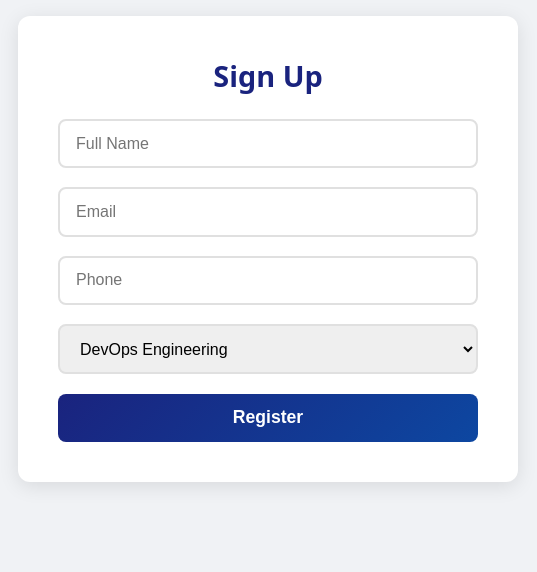
it: Signup Page › shows error message on failed registration
This screenshot has width=537, height=572.
Type "John Doe" into the field with placeholder "Full Name".
click(268, 144); type("John Doe")  # box [58, 119, 478, 168]
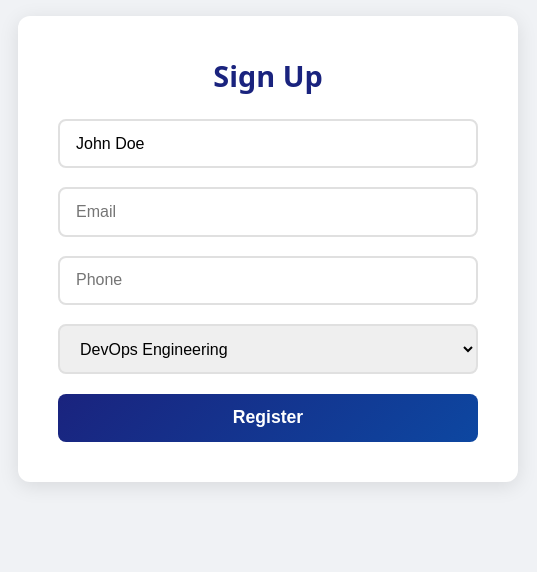
Type "john@example.com" into the field with placeholder "Email".
click(268, 212); type("john@example.com")  # box [58, 187, 478, 237]
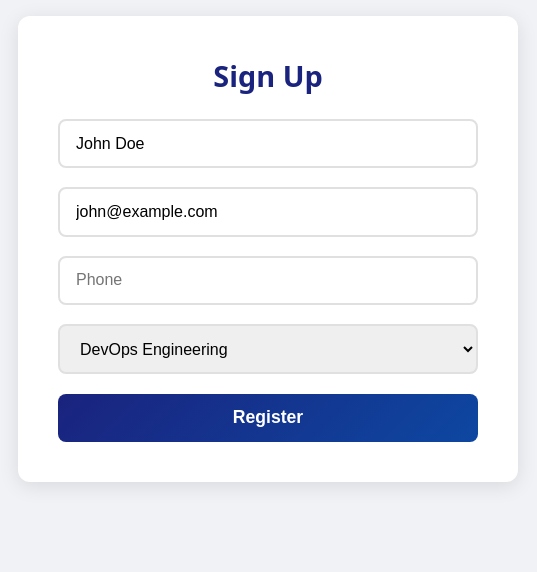
Type "1234567890" into the field with placeholder "Phone".
click(268, 280); type("1234567890")  # box [58, 256, 478, 305]
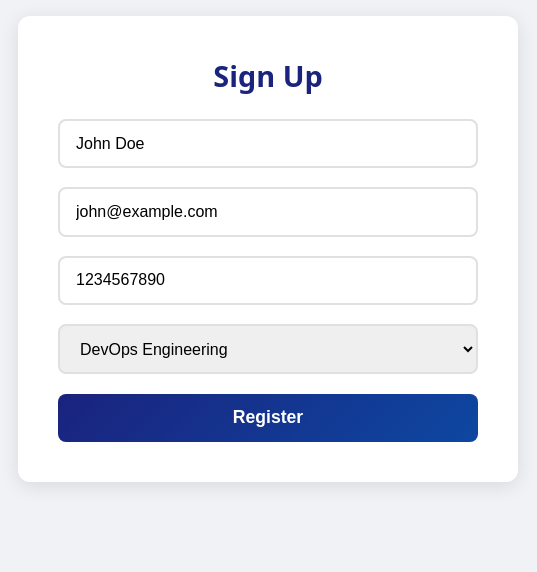
Click the button "Register".
click(268, 418)  # box [58, 394, 478, 442]
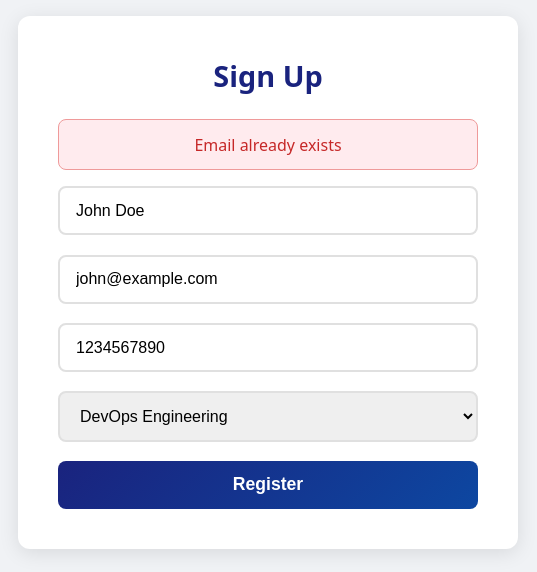
Expected: the text "Email already exists" is shown, [194, 134, 342, 156]
